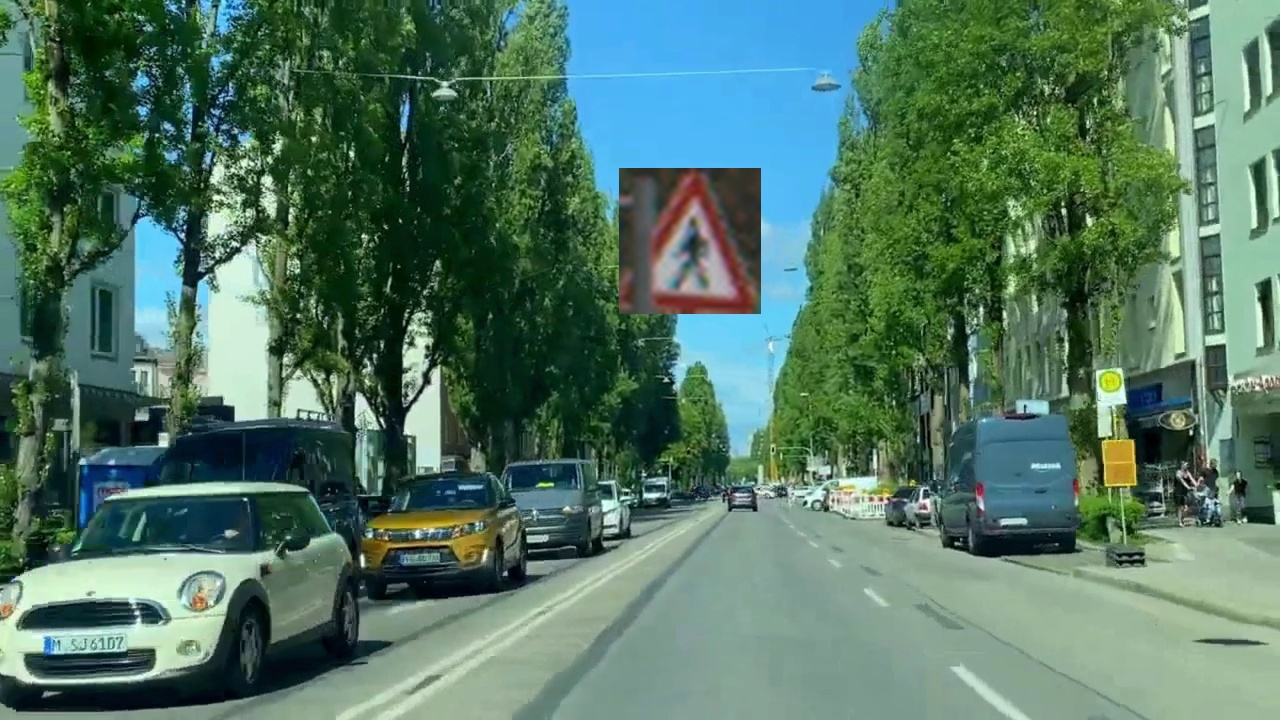Pedestrians: (619, 168, 761, 314)
